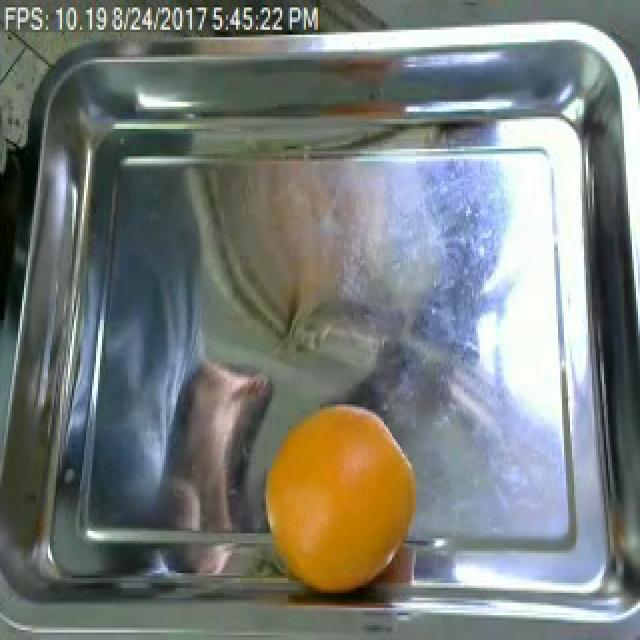Fruit: (258, 399, 420, 603)
